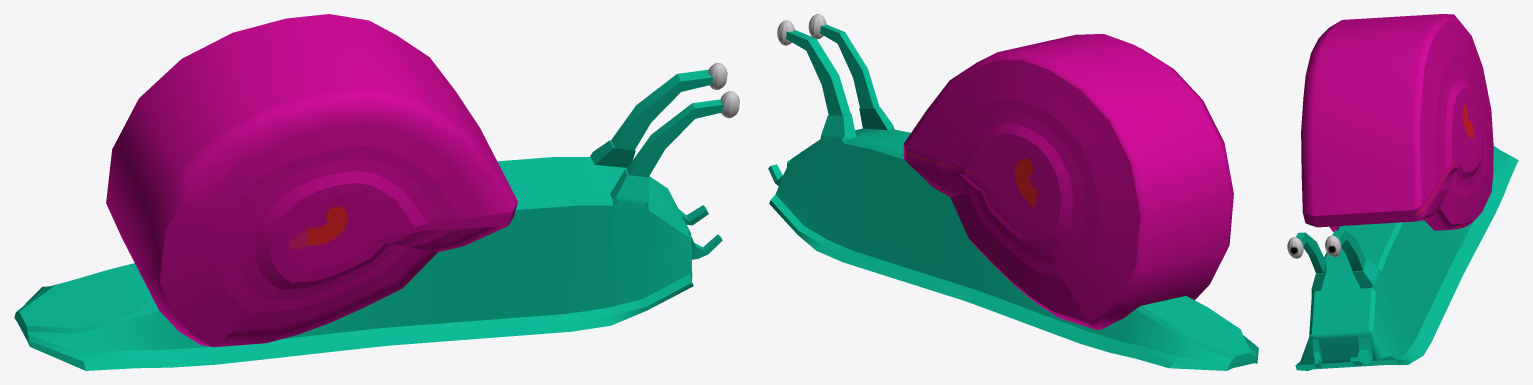
The model's file is SNAILGARY.fbx.
The picture shows the model from 3 angles, left to right: view 1: azimuth 30°, elevation 25°; view 2: azimuth 150°, elevation 25°; view 3: azimuth 270°, elevation 25°; orthographic projection. The views are drawn at different scales.
Parts seen in each view (by area): view 1: node_id7, node_id5; view 2: node_id7, node_id5; view 3: node_id7, node_id5, node_id9, node_id11.
Part boxes in pixels (box(x1,y1,x2,y2)): node_id7: box(106, 14, 517, 347); node_id5: box(14, 69, 723, 370); node_id7: box(903, 34, 1233, 329); node_id5: box(768, 24, 1258, 370); node_id7: box(1301, 14, 1493, 231); node_id5: box(1295, 146, 1518, 370); node_id9: box(1287, 237, 1303, 258); node_id11: box(1325, 235, 1341, 257).
Bounding box in the file's own units: 0.5094 × 0.2436 × 0.2096.
Materials: 5 (5 with a texture image).
